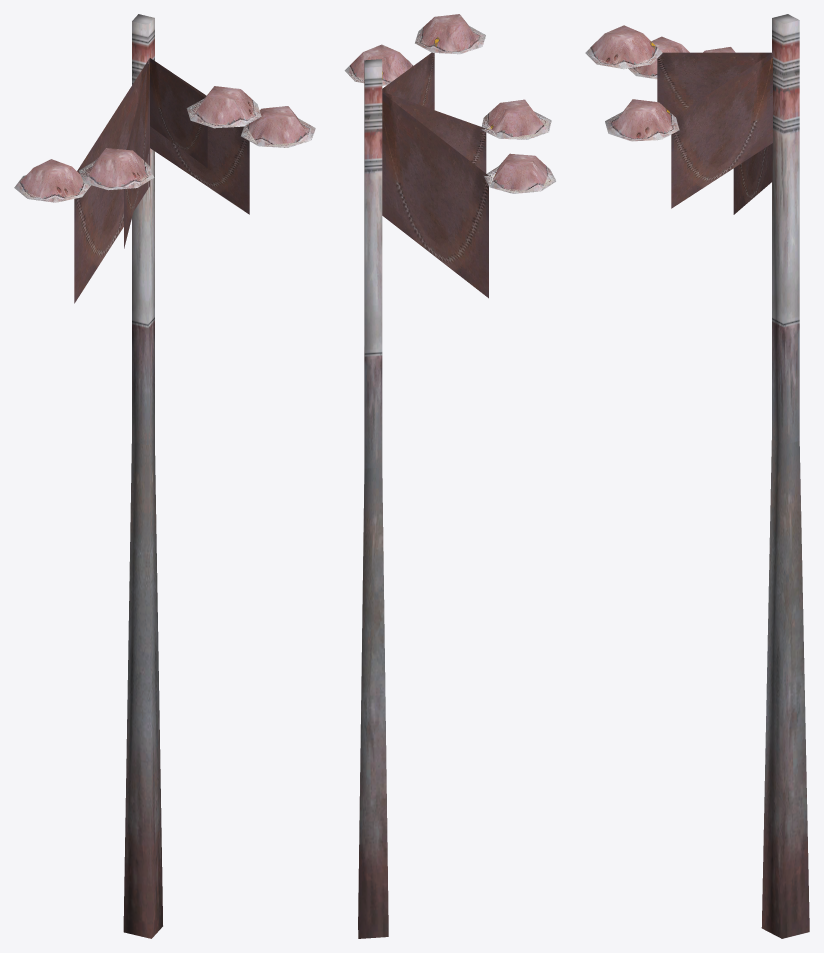
The model's file is mun_all_imprv_streetlamp_m_s02_l2.fbx.
3 renders of one model, left to right at view 1: azimuth 30°, elevation 25°; view 2: azimuth 150°, elevation 25°; view 3: azimuth 270°, elevation 25°, orthographic. The views are drawn at different scales.
Visible parts, largest first — view 1: mesh_node; view 2: mesh_node; view 3: mesh_node.
Part boxes in pixels (x1,y1,x2,y2): mesh_node: [14, 14, 315, 938]; mesh_node: [344, 14, 556, 938]; mesh_node: [585, 14, 809, 938].
Size of the model in its own units: 0.8557 by 2.98 by 0.6663.
